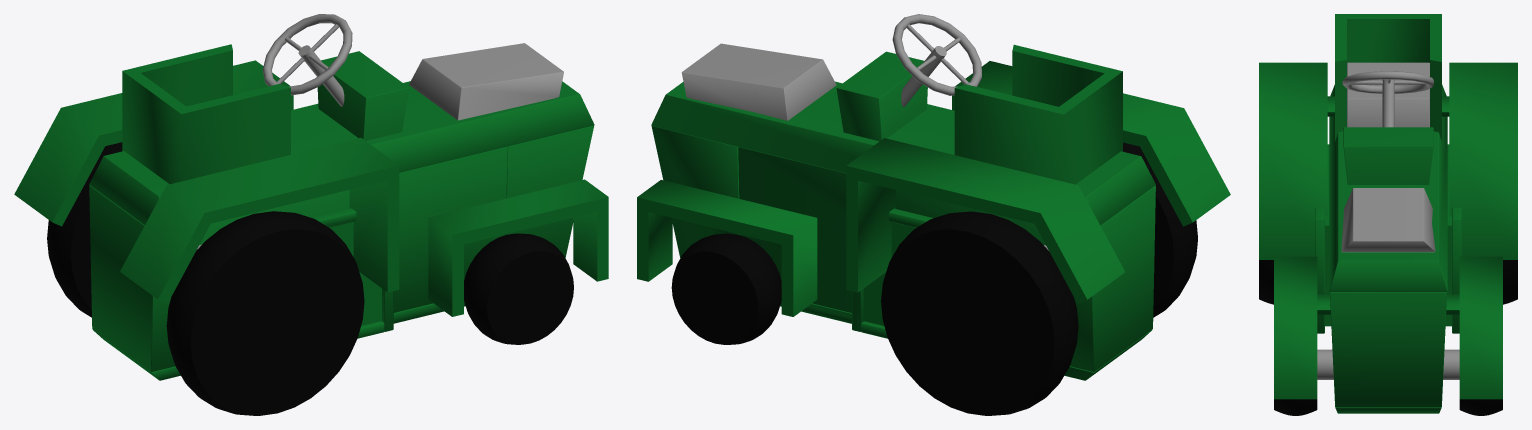
Rendered from Tractors(1).glb.
3 renders of one model, left to right at view 1: azimuth 30°, elevation 25°; view 2: azimuth 150°, elevation 25°; view 3: azimuth 270°, elevation 25°, orthographic. The views are drawn at different scales.
Parts seen in each view (by area): view 1: Root; view 2: Root; view 3: Root.
Boxes of the visible parts, left/top/right/bottom form: Root: left=14, top=14, right=608, bottom=415; Root: left=637, top=14, right=1230, bottom=415; Root: left=1259, top=14, right=1517, bottom=415.
Size of the model in its own units: 4.12 by 2.61 by 2.15.
